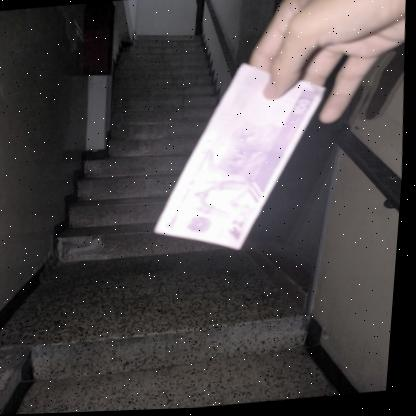one_hundred-back-vef: (146, 56, 338, 259)
